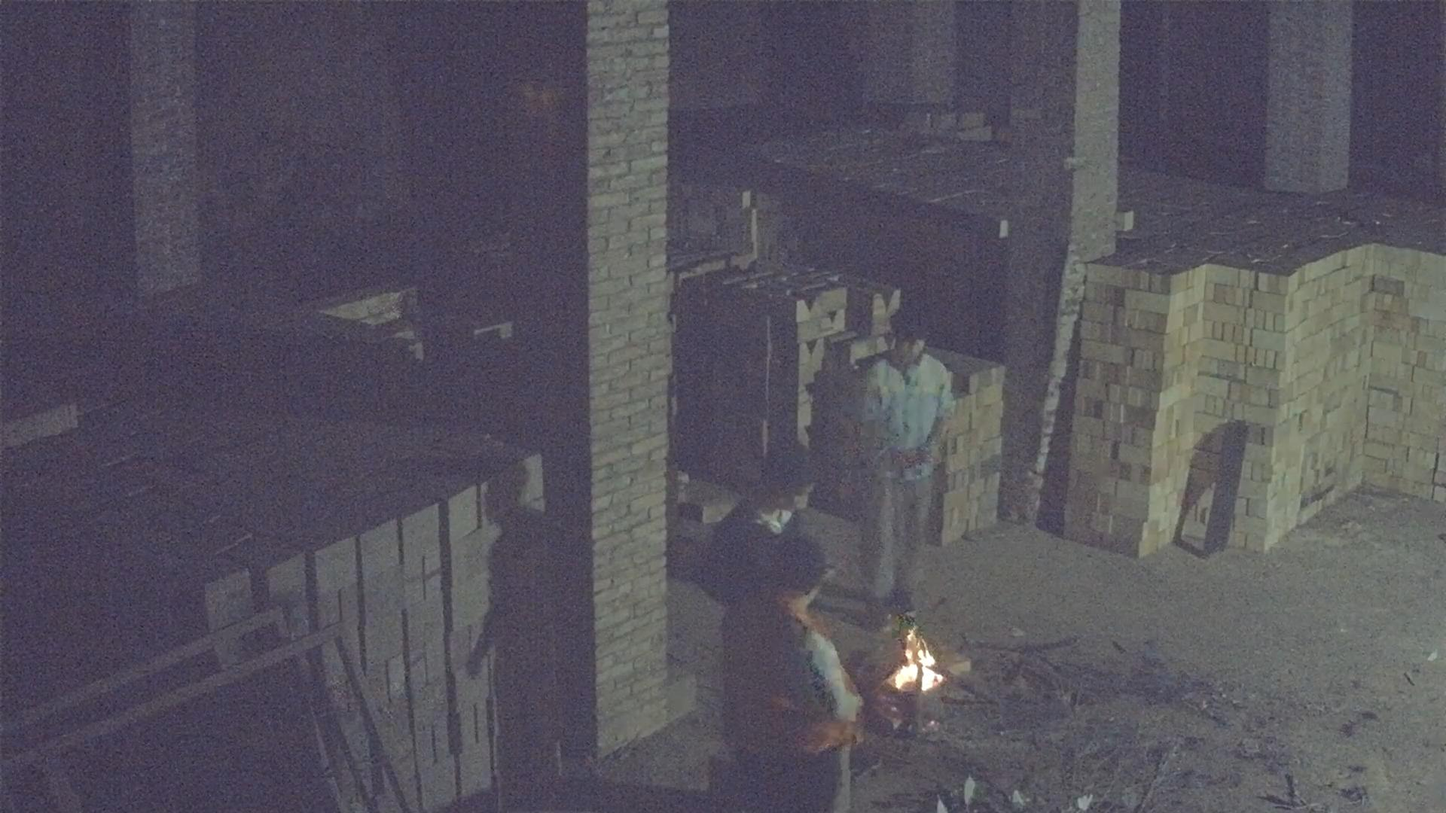fire: (886, 623, 944, 695)
